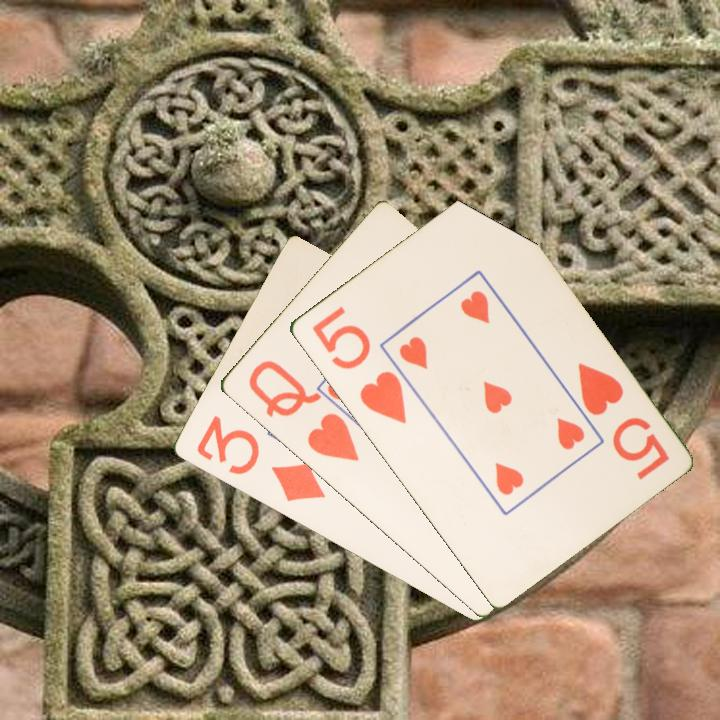3d: (192, 412, 328, 505)
5h: (307, 302, 409, 427), (573, 358, 672, 483)
Qh: (244, 356, 362, 465)
